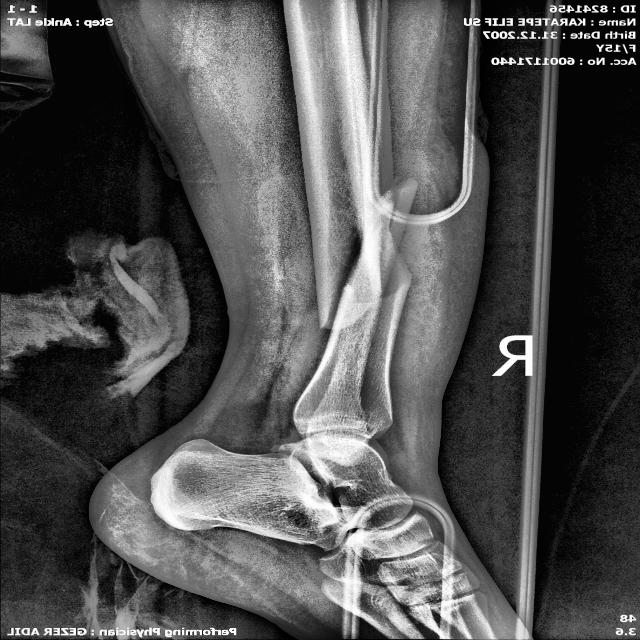Fracture: (283, 147, 427, 360)
